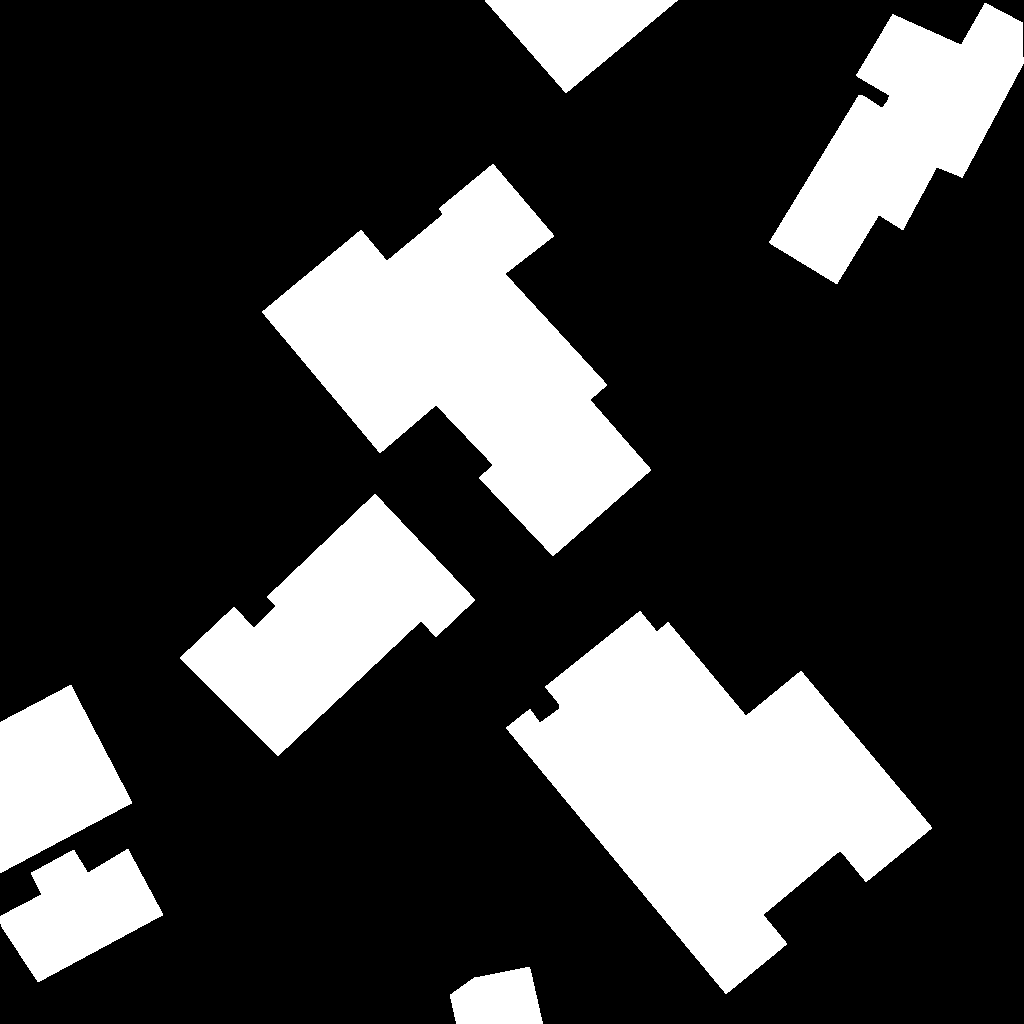building: (506, 611, 933, 995), (262, 164, 652, 557), (180, 494, 476, 757), (769, 3, 1024, 285), (0, 685, 133, 874), (0, 849, 164, 983), (484, 0, 679, 94), (450, 967, 544, 1024)
